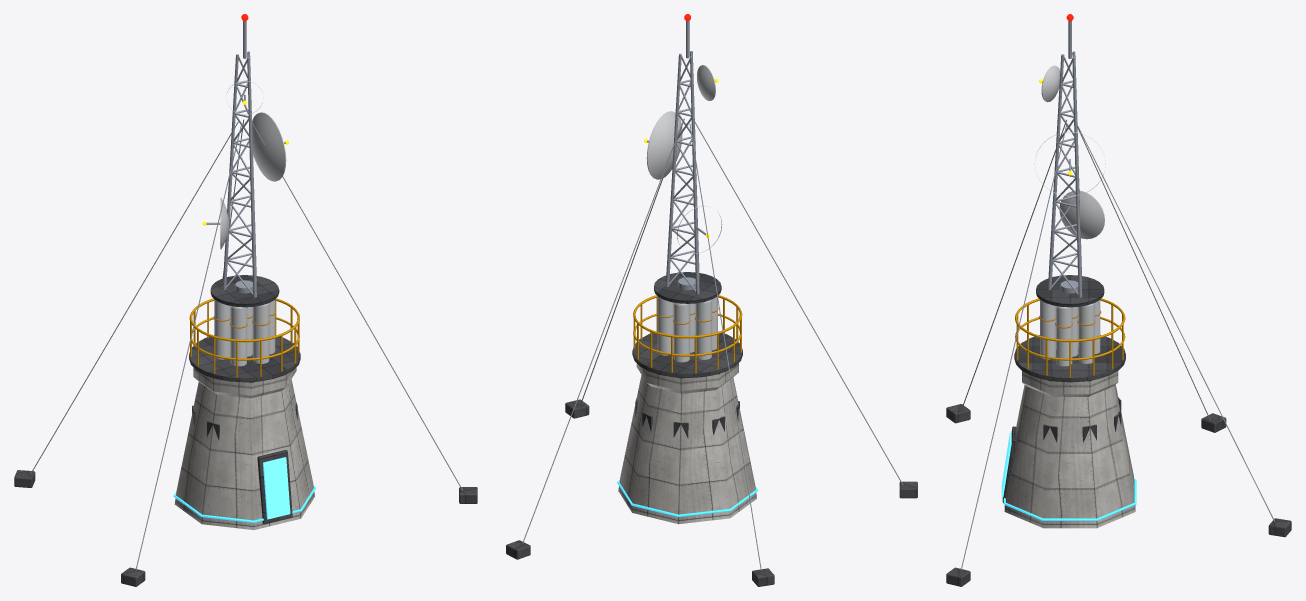
The model's file is RoofAntenna.glb.
3 views of the same model, side by side, from view 1: azimuth 30°, elevation 25°; view 2: azimuth 150°, elevation 25°; view 3: azimuth 270°, elevation 25° (orthographic).
Parts seen in each view (by area): view 1: COM_Tower_Mesh; view 2: COM_Tower_Mesh; view 3: COM_Tower_Mesh.
Part boxes in pixels (x1,y1,x2,y2): COM_Tower_Mesh: (14, 14, 477, 586); COM_Tower_Mesh: (506, 14, 917, 586); COM_Tower_Mesh: (946, 14, 1291, 586).
Bounding box in the file's own units: 11.05 × 14.41 × 9.27.
Materials: 10 (3 with a texture image).
